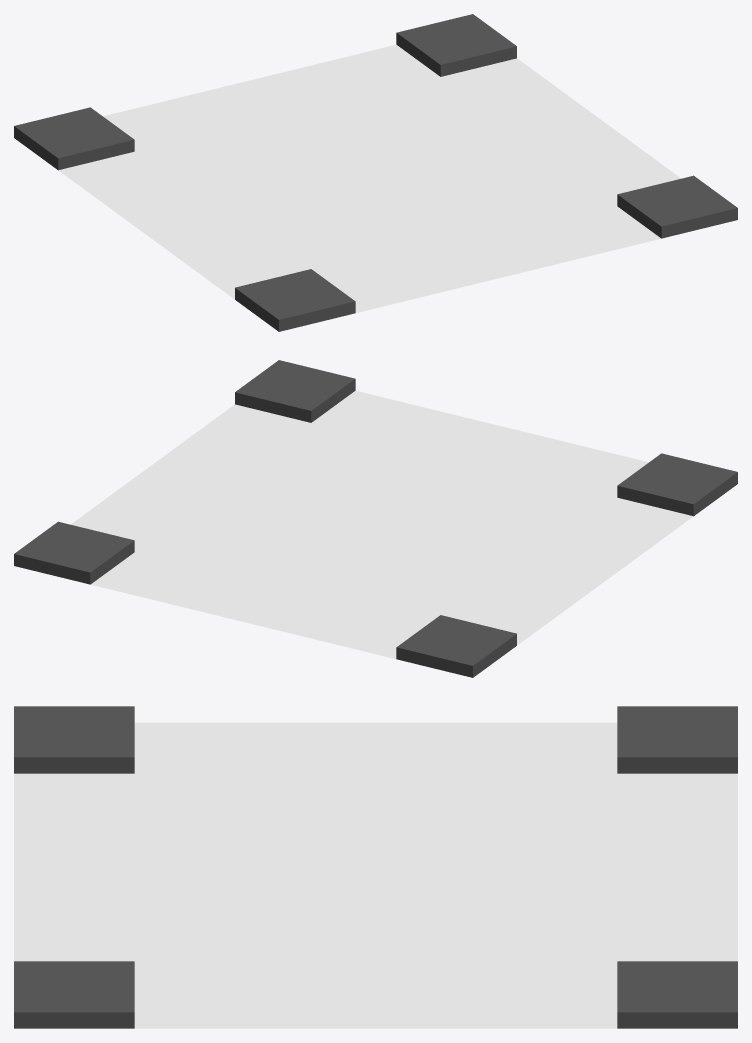
The model's file is RoadCross.fbx.
3 views of the same model, one above another, from view 1: azimuth 30°, elevation 25°; view 2: azimuth 150°, elevation 25°; view 3: azimuth 270°, elevation 25° (orthographic). The views are drawn at different scales.
Parts seen in each view (by area): view 1: RoadCross; view 2: RoadCross; view 3: RoadCross.
Boxes of the visible parts, x1,y1,x2,y2 form: RoadCross: (14, 14, 737, 331); RoadCross: (14, 360, 737, 677); RoadCross: (14, 706, 737, 1028).
Bounding box in the file's own units: 1600 × 40 × 1600.
